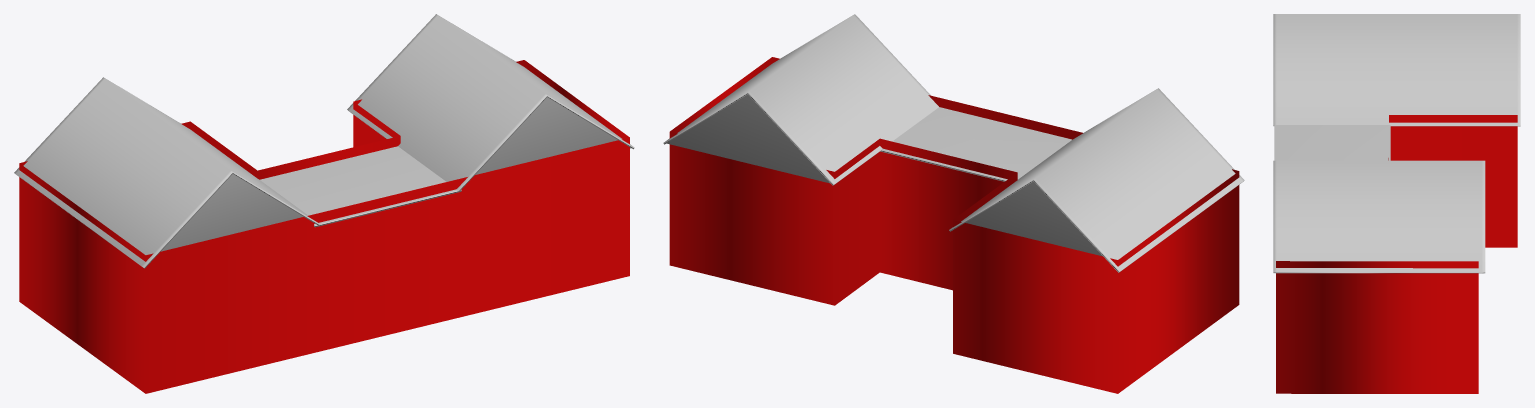
File: bauernhaus_02.fbx
3 views of the same model, side by side, from view 1: azimuth 30°, elevation 25°; view 2: azimuth 150°, elevation 25°; view 3: azimuth 270°, elevation 25° (orthographic). The views are drawn at different scales.
Visible parts, largest first — view 1: colmesh, bauernhaus_02; view 2: colmesh, bauernhaus_02; view 3: bauernhaus_02, colmesh.
Part boxes in pixels (box(x1,y1,x2,y2)): colmesh: box(19, 60, 629, 393); bauernhaus_02: box(14, 14, 634, 268); colmesh: box(669, 57, 1239, 393); bauernhaus_02: box(663, 14, 1244, 272); bauernhaus_02: box(1273, 14, 1520, 273); colmesh: box(1276, 115, 1517, 393).
Size of the model in its own units: 1890 by 744 by 862.
